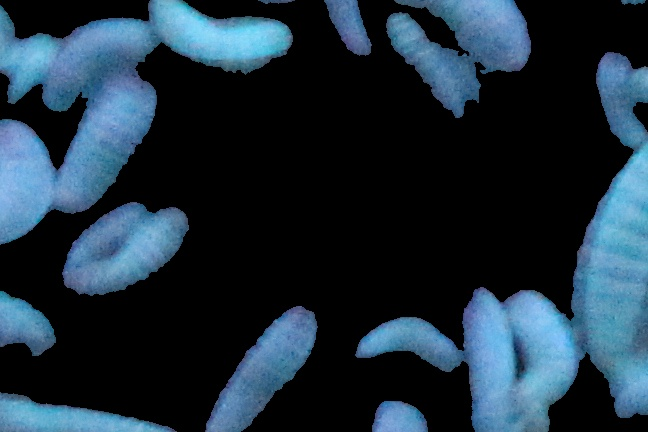larvae: (576, 129, 648, 409), (51, 63, 177, 222), (54, 196, 194, 307), (141, 1, 298, 88), (206, 308, 320, 427), (35, 14, 157, 110), (375, 1, 531, 71), (380, 11, 470, 129), (500, 284, 575, 424), (466, 276, 517, 432), (357, 308, 469, 376), (1, 128, 61, 254), (309, 1, 395, 62), (591, 49, 645, 144), (1, 1, 12, 58)
